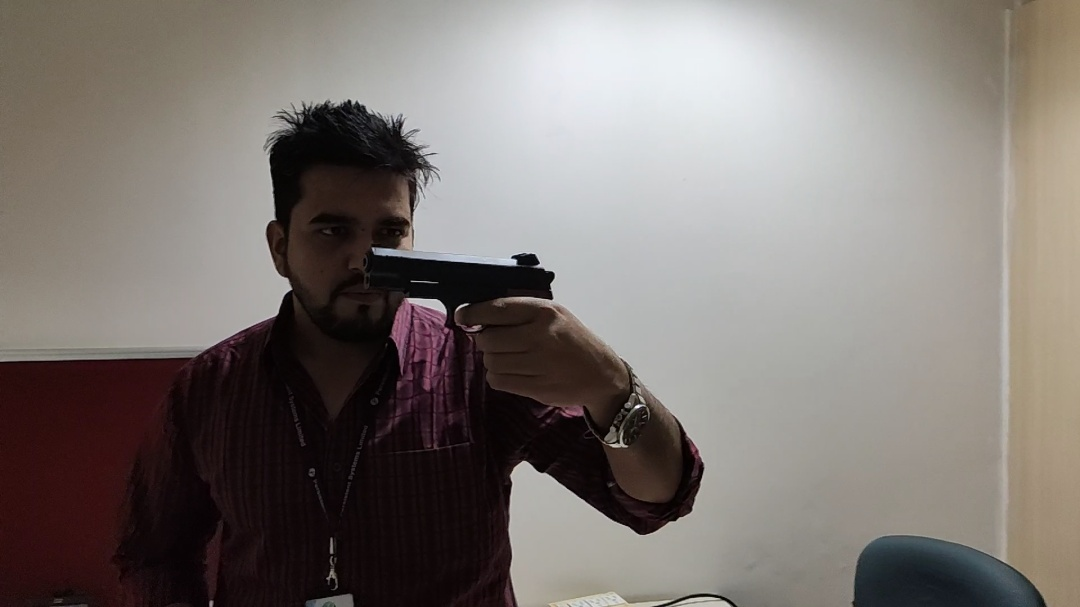gun: (359, 236, 567, 334)
